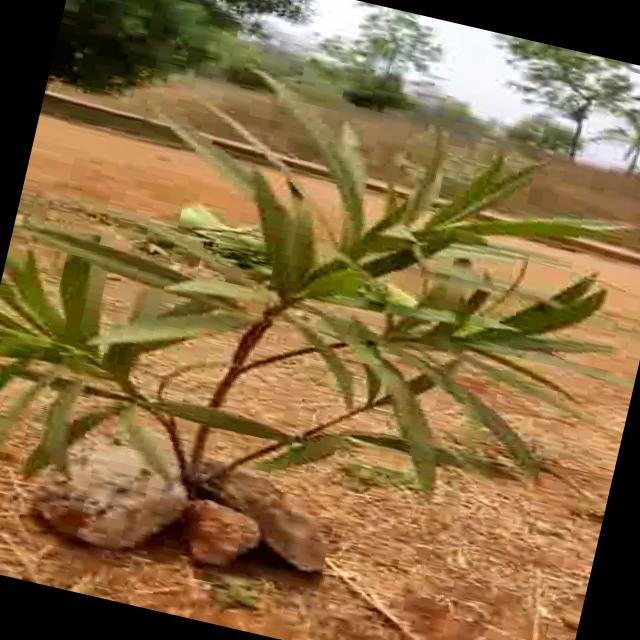Oleander: (5, 10, 640, 526)
